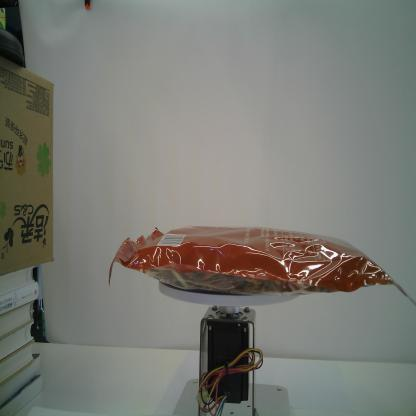Dried Food: (108, 225, 416, 305)
